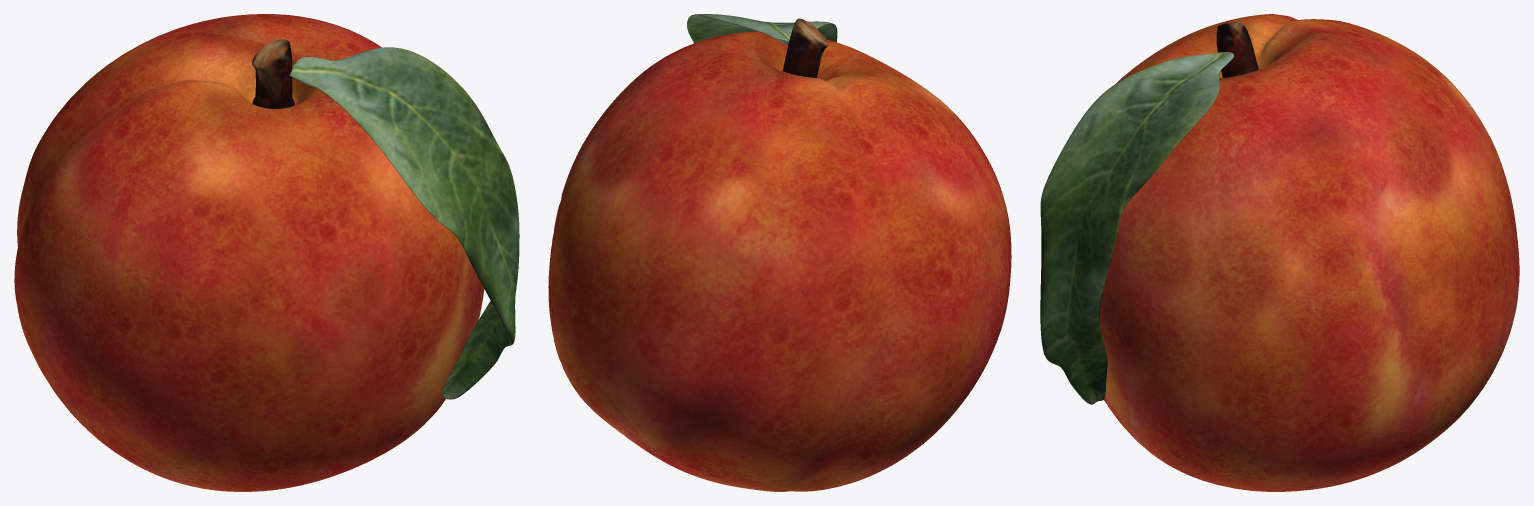
3 renders of one model, left to right at view 1: azimuth 30°, elevation 25°; view 2: azimuth 150°, elevation 25°; view 3: azimuth 270°, elevation 25°, orthographic. The views are drawn at different scales.
Parts seen in each view (by area): view 1: 10196_Peach; view 2: 10196_Peach; view 3: 10196_Peach.
Boxes of the visible parts, left/top/right/bottom form: 10196_Peach: left=14, top=14, right=519, bottom=491; 10196_Peach: left=548, top=14, right=1011, bottom=491; 10196_Peach: left=1040, top=14, right=1519, bottom=491.
Bounding box in the file's own units: 6.97 × 7.15 × 6.93.
Materials: 1 (1 with a texture image).
